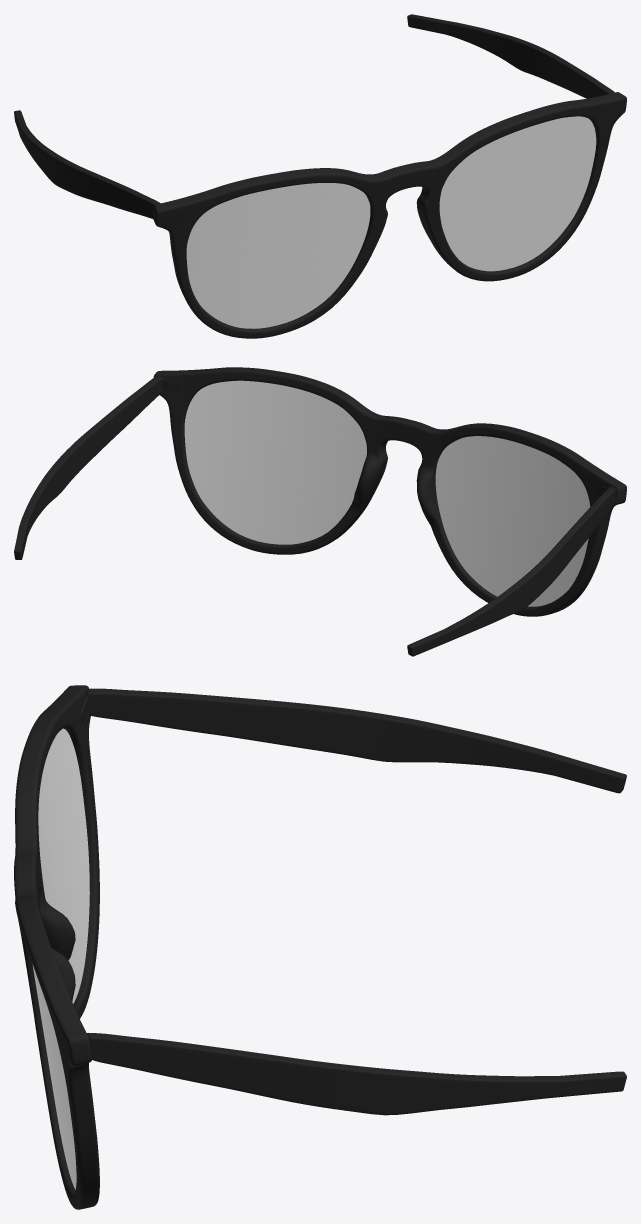
The model's file is ErikaApp.glb.
3 views of the same model, one above another, from view 1: azimuth 30°, elevation 25°; view 2: azimuth 150°, elevation 25°; view 3: azimuth 270°, elevation 25° (orthographic). The views are drawn at different scales.
Parts seen in each view (by area): view 1: Lentes, Armacao; view 2: Lentes, Armacao; view 3: Armacao, Lentes.
Boxes of the visible parts, box(x1,y1,x2,y2) form: Lentes: box(186, 116, 596, 328); Armacao: box(14, 14, 626, 338); Lentes: box(184, 380, 590, 606); Armacao: box(14, 367, 626, 656); Armacao: box(14, 685, 626, 1209); Lentes: box(32, 728, 89, 1189).
Bounding box in the file's own units: 0.1621 × 0.0552 × 0.1162.
Materials: 2 (2 with a texture image).
